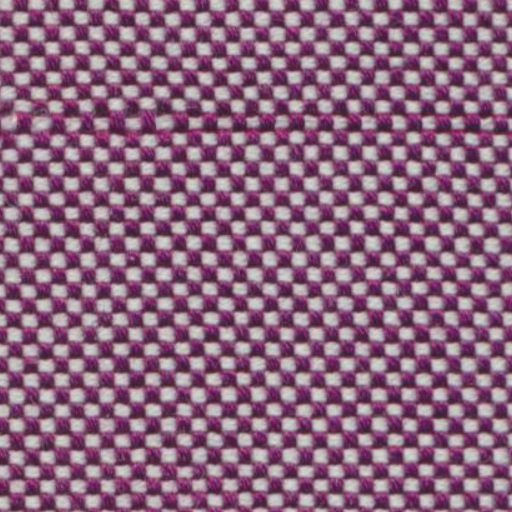TuoSha: (8, 78, 500, 174)
